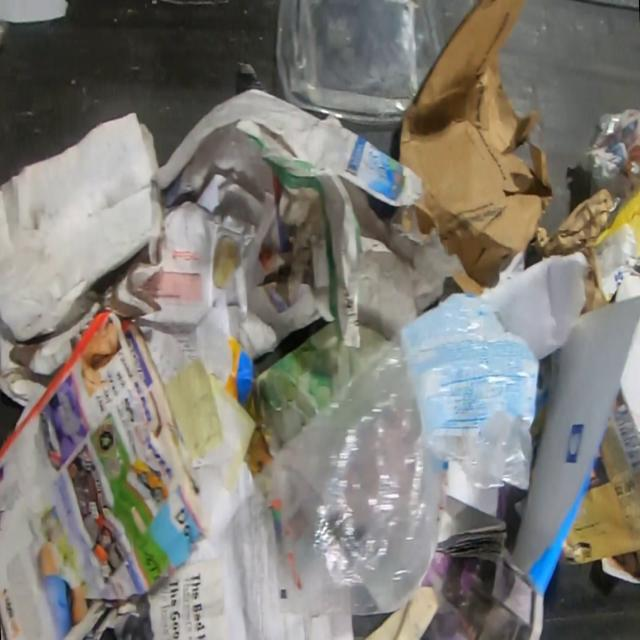cardboard: (396, 0, 614, 311), (0, 111, 162, 342), (234, 119, 363, 358)
rigid_plastic: (274, 0, 442, 128)
soft_plastic: (250, 330, 534, 618), (398, 291, 540, 434)
